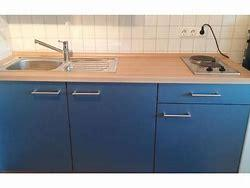cabinet_door: (70, 86, 156, 172), (156, 103, 250, 174), (0, 84, 67, 174), (157, 83, 250, 103)
handle: (160, 109, 194, 121), (70, 89, 104, 99), (28, 88, 62, 98), (187, 90, 223, 99)
